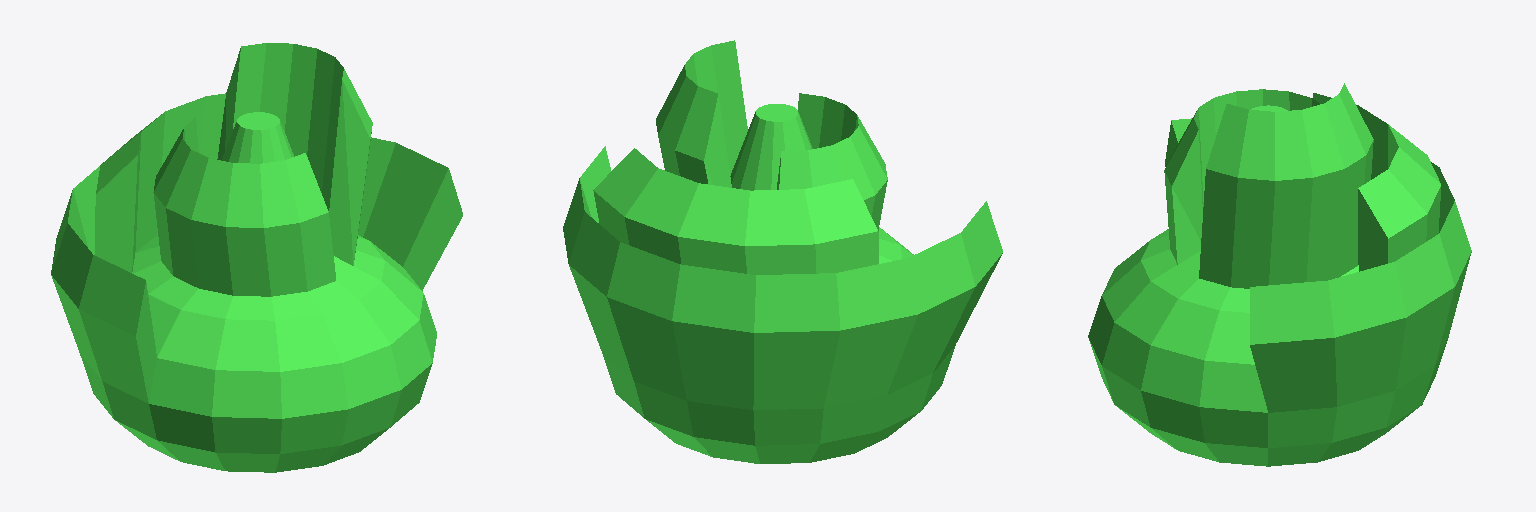
The model's file is lettuce-eat1.obj.
The picture shows the model from 3 angles: view 1: azimuth 30°, elevation 25°; view 2: azimuth 150°, elevation 25°; view 3: azimuth 270°, elevation 25°; orthographic projection.
Visible parts, largest first — view 1: sphere1; view 2: sphere1; view 3: sphere1.
Boxes of the visible parts, x1=… form: sphere1: x1=51, y1=43, x2=462, y2=472; sphere1: x1=563, y1=40, x2=1002, y2=463; sphere1: x1=1088, y1=83, x2=1471, y2=466.
Bounding box in the file's own units: 2.46 × 2.22 × 2.13.